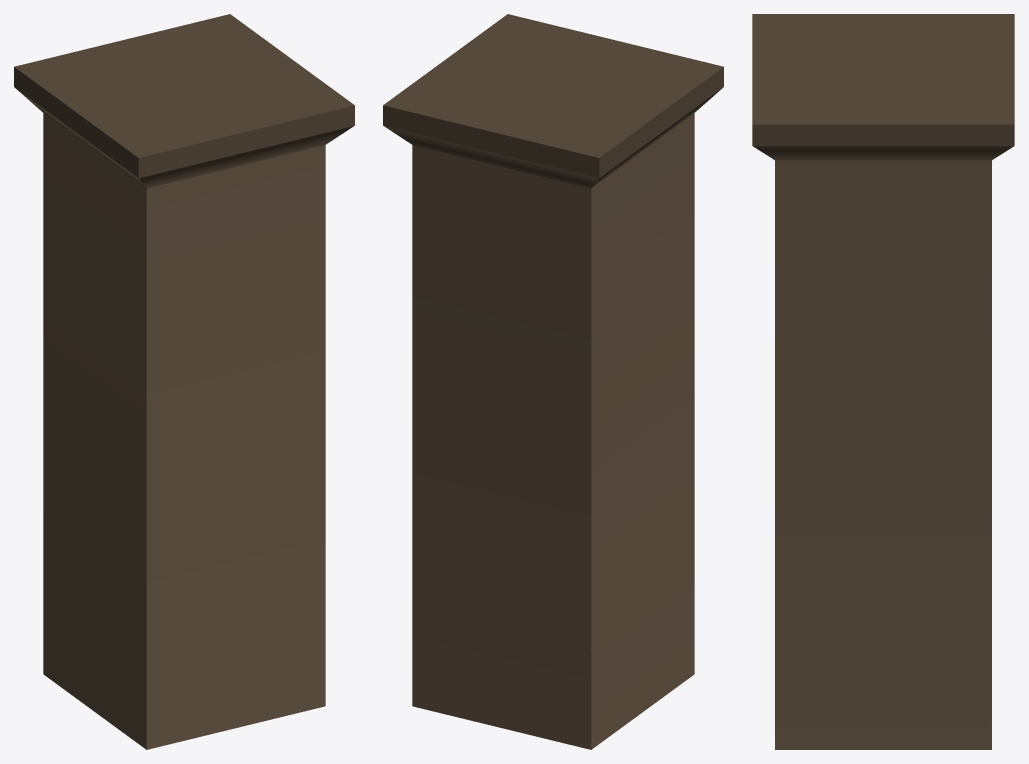
File: PillarNoSpikes.fbx
3 views of the same model, side by side, from view 1: azimuth 30°, elevation 25°; view 2: azimuth 150°, elevation 25°; view 3: azimuth 270°, elevation 25° (orthographic). The views are drawn at different scales.
Parts seen in each view (by area): view 1: Pillar; view 2: Pillar; view 3: Pillar.
Part boxes in pixels (x1=…): Pillar: x1=14, y1=14, x2=354, y2=749; Pillar: x1=383, y1=14, x2=723, y2=749; Pillar: x1=752, y1=14, x2=1014, y2=749.
Bounding box in the file's own units: 1.21 × 3.23 × 1.21.
Materials: 1 (1 with a texture image).
